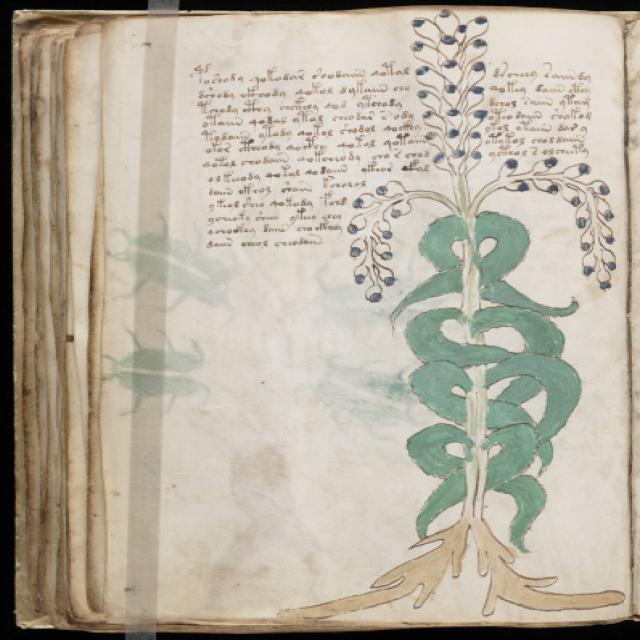plant: (272, 9, 629, 627)
